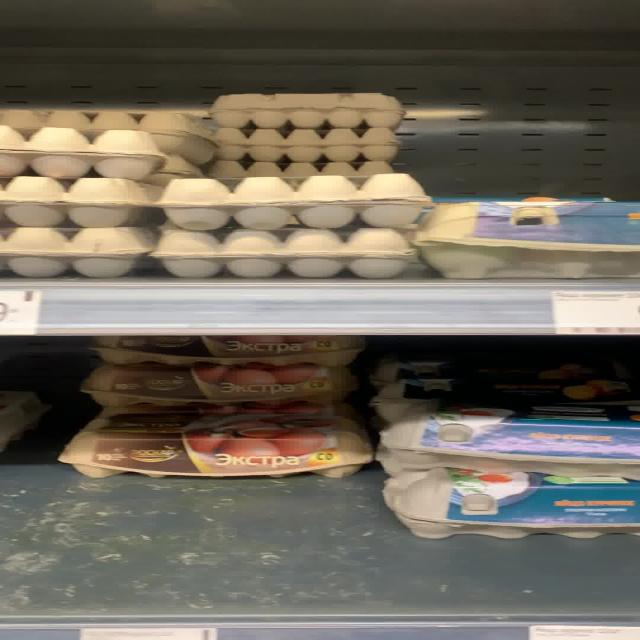egg box: (52, 413, 376, 477), (377, 473, 638, 537), (384, 413, 633, 475)
